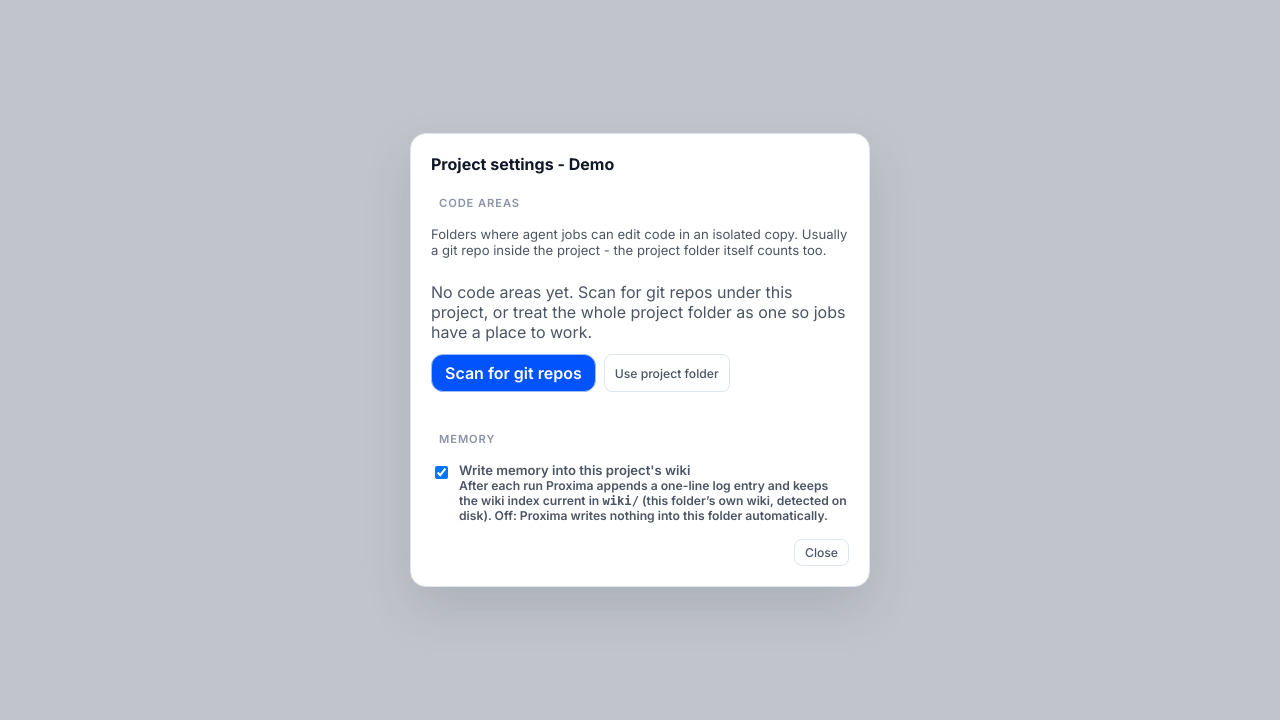
ContainerSettingsModal › scan for git repos refreshes the list and reports when nothing is found
The width and height of the screenshot is (1280, 720).
Click the button "Scan for git repos". click: (513, 373)
box: [431,354,596,392]
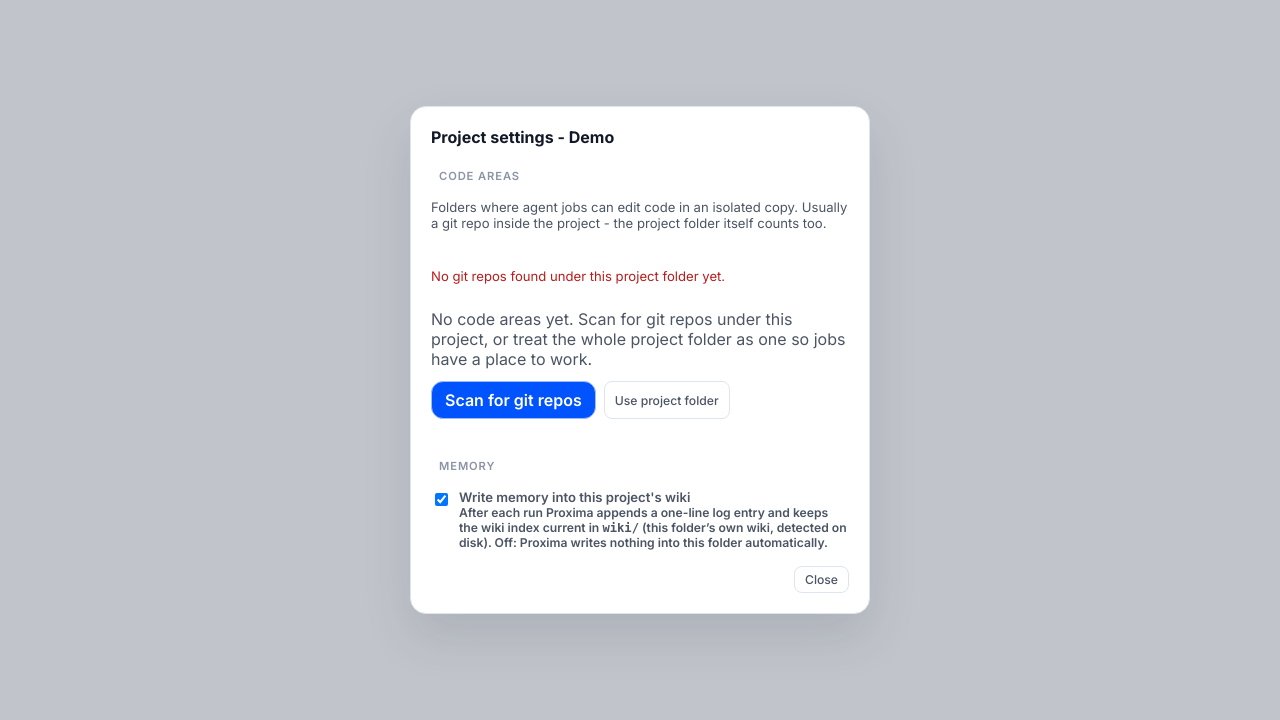
Expected: the message shows "No git repos found", [431,268,725,284]
